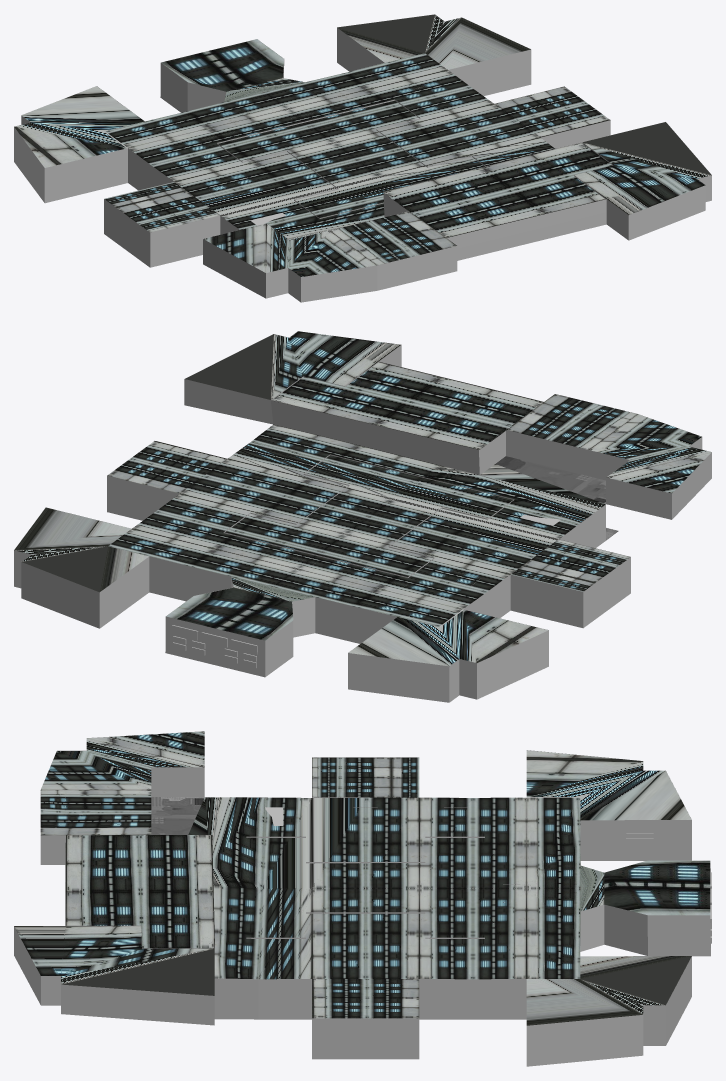
The model's file is Model_Biolab_Map.fbx.
The picture shows the model from 3 angles, top to bottom: view 1: azimuth 30°, elevation 25°; view 2: azimuth 150°, elevation 25°; view 3: azimuth 270°, elevation 25°; orthographic projection. The views are drawn at different scales.
Visible parts, largest first — view 1: Lab.002; view 2: Lab.002; view 3: Lab.002.
Boxes of the visible parts, <box> form: Lab.002: <box>14,14,711,302</box>; Lab.002: <box>14,331,711,702</box>; Lab.002: <box>14,731,711,1066</box>.
Bounding box in the file's own units: 9964 × 1200 × 10654.
